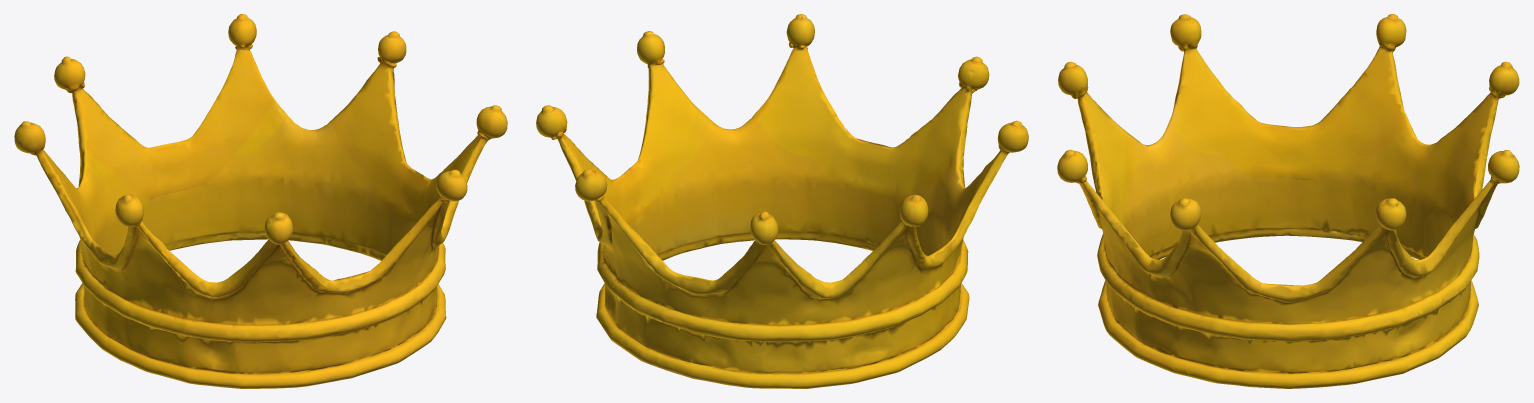
Rendered from Golden_Crown_Illustra_0718001159_texture.fbx.
3 renders of one model, left to right at view 1: azimuth 30°, elevation 25°; view 2: azimuth 150°, elevation 25°; view 3: azimuth 270°, elevation 25°, orthographic. The views are drawn at different scales.
Parts seen in each view (by area): view 1: Mesh_0; view 2: Mesh_0; view 3: Mesh_0.
Part boxes in pixels (x1,y1,x2,y2): Mesh_0: [14, 14, 507, 388]; Mesh_0: [536, 14, 1028, 388]; Mesh_0: [1057, 14, 1519, 388].
Bounding box in the file's own units: 198 × 97.03 × 198.
Materials: 1 (1 with a texture image).
